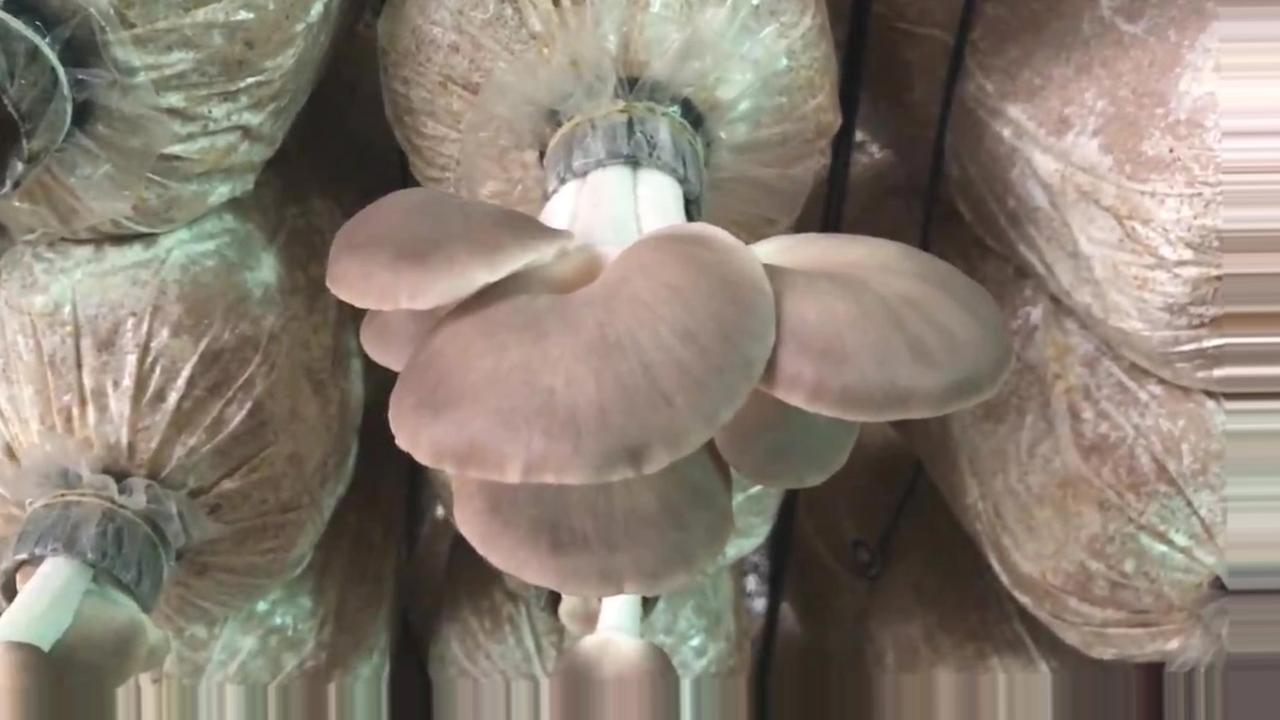nam: (329, 105, 1010, 596), (1, 505, 169, 720), (546, 596, 678, 720)
